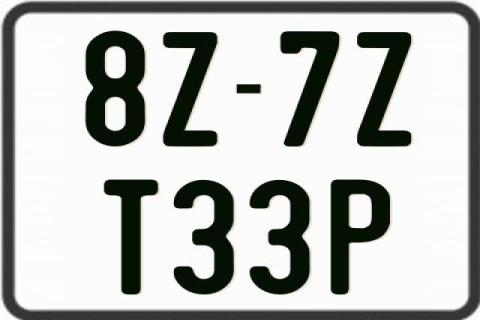0: (82, 30, 146, 150), (174, 177, 236, 297), (250, 180, 314, 294), (277, 31, 336, 150)
P: (329, 179, 389, 295)
T: (104, 178, 163, 298)
Z: (160, 30, 218, 144), (354, 31, 410, 146)
